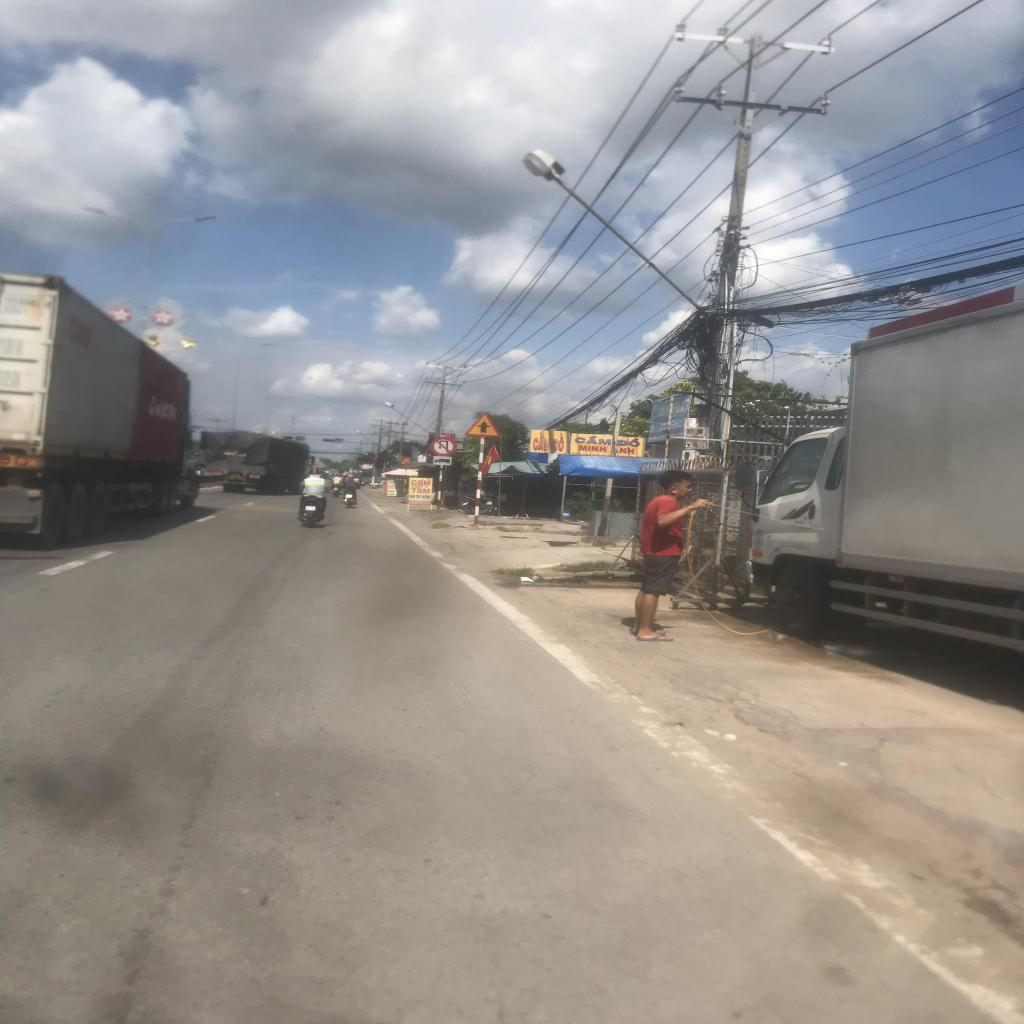cam_quay_dau_xe: (428, 435, 458, 457)
giao_nhau_voi_duong_khong_uu_tien: (464, 411, 503, 439)
khac: (434, 456, 453, 465)
